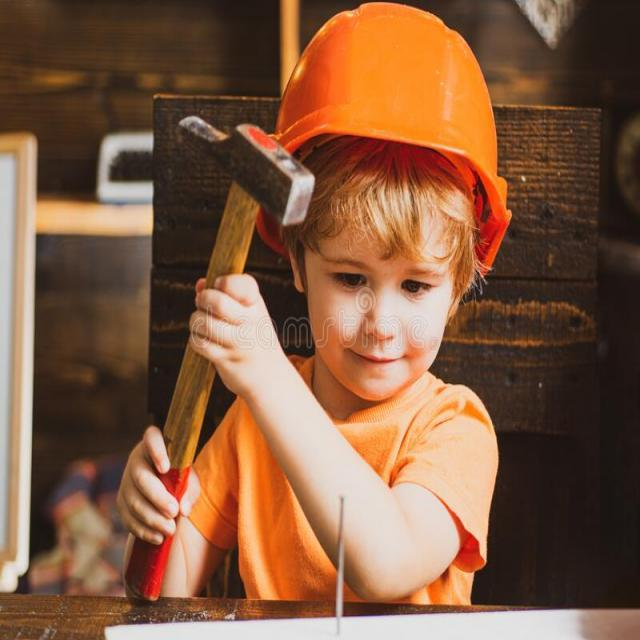hammer: (120, 105, 320, 614)
